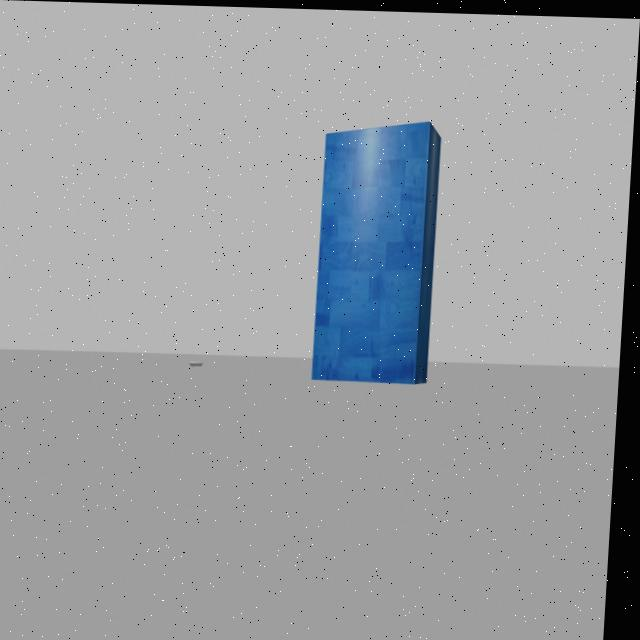bowl: (189, 356, 214, 374)
shelf: (296, 109, 464, 406)
